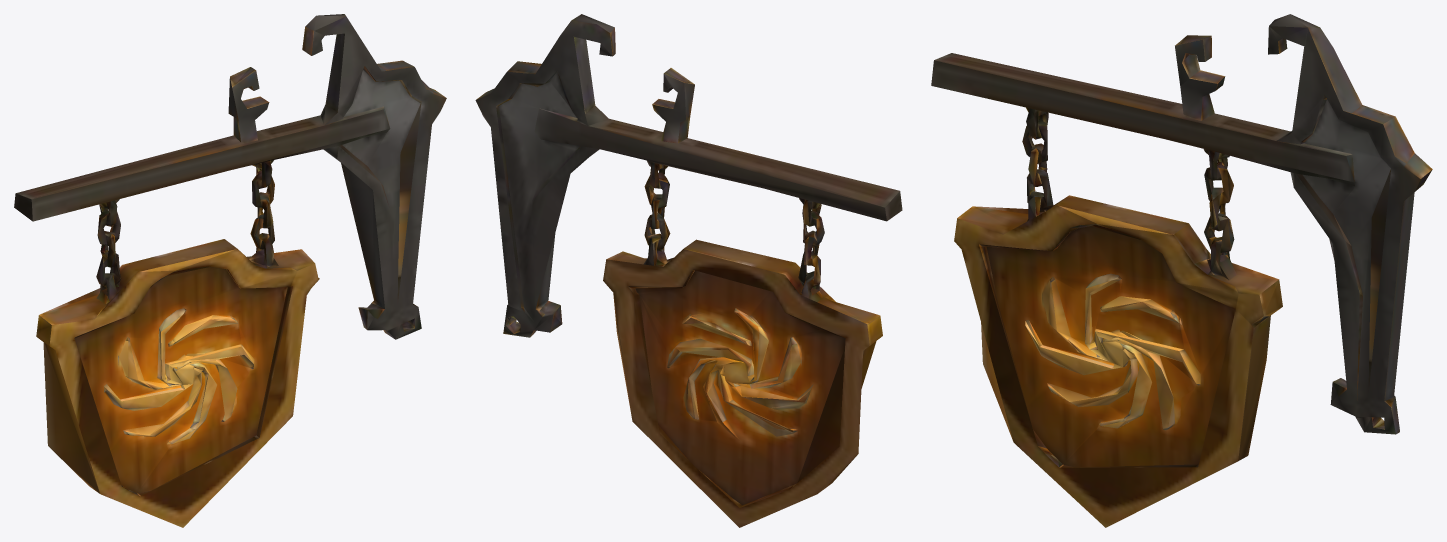
Rendered from obj_sign_guild.glb.
The picture shows the model from 3 angles, left to right: view 1: azimuth 30°, elevation 25°; view 2: azimuth 150°, elevation 25°; view 3: azimuth 330°, elevation 25°; orthographic projection. The views are drawn at different scales.
Parts seen in each view (by area): view 1: Mesh_0.008; view 2: Mesh_0.008; view 3: Mesh_0.008.
Part boxes in pixels (<box>): Mesh_0.008: <box>14,14,446,527</box>; Mesh_0.008: <box>475,14,902,527</box>; Mesh_0.008: <box>931,14,1432,527</box>.
Bounding box in the file's own units: 1.84 × 1.97 × 0.1348.
Materials: 1 (1 with a texture image).
